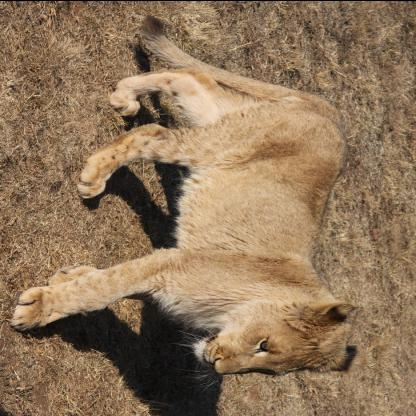lion: (191, 294, 362, 378)
